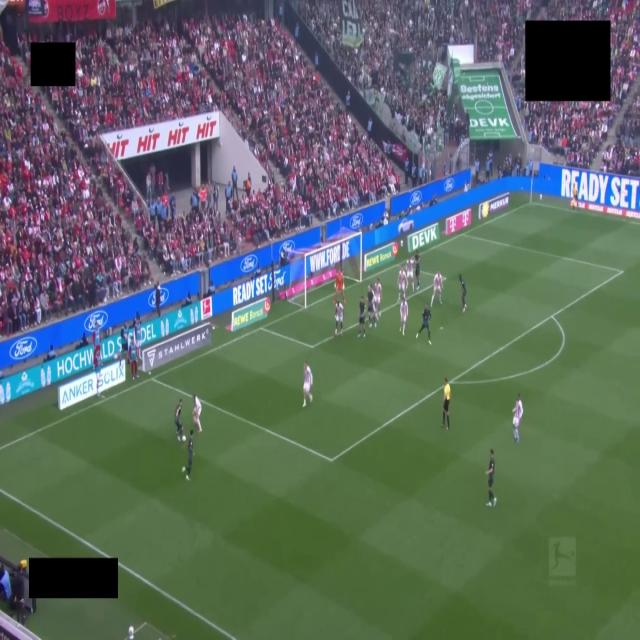ball: (182, 435, 186, 441)
player: (416, 304, 431, 344), (512, 393, 524, 442), (486, 448, 496, 506), (182, 430, 193, 480), (367, 286, 377, 327), (303, 363, 312, 407), (192, 395, 202, 433), (431, 272, 442, 306), (334, 271, 345, 303), (398, 267, 407, 302), (374, 279, 382, 317), (400, 297, 408, 335), (358, 296, 365, 337), (175, 400, 182, 441), (406, 256, 414, 291), (335, 301, 343, 335), (459, 275, 466, 312), (414, 253, 420, 288)
referee: (442, 378, 450, 430)
